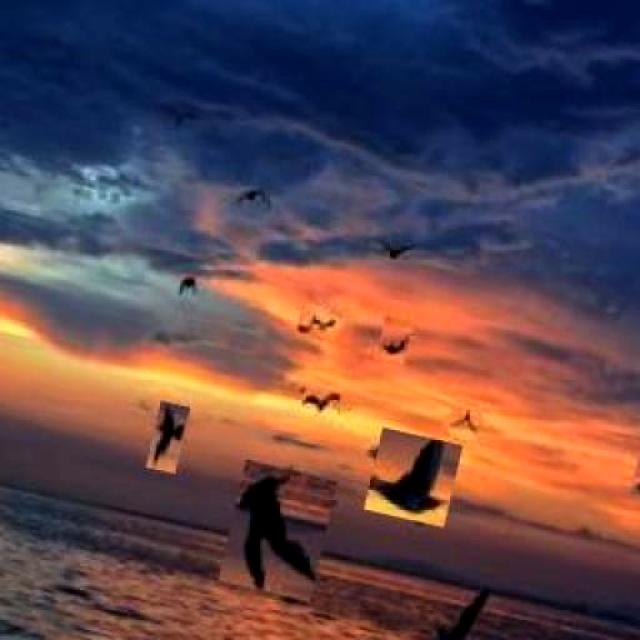airplane: (218, 459, 338, 601), (362, 428, 462, 528), (405, 565, 498, 640), (144, 400, 190, 474), (294, 301, 340, 342), (376, 315, 414, 362), (299, 382, 341, 421), (446, 404, 482, 442)
